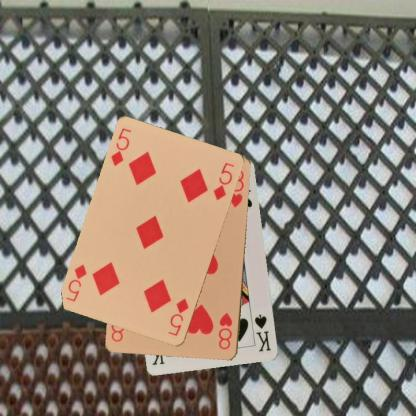5d: (165, 296, 191, 337), (108, 126, 133, 168)
8h: (216, 310, 234, 351)
Ks: (252, 311, 272, 353)
